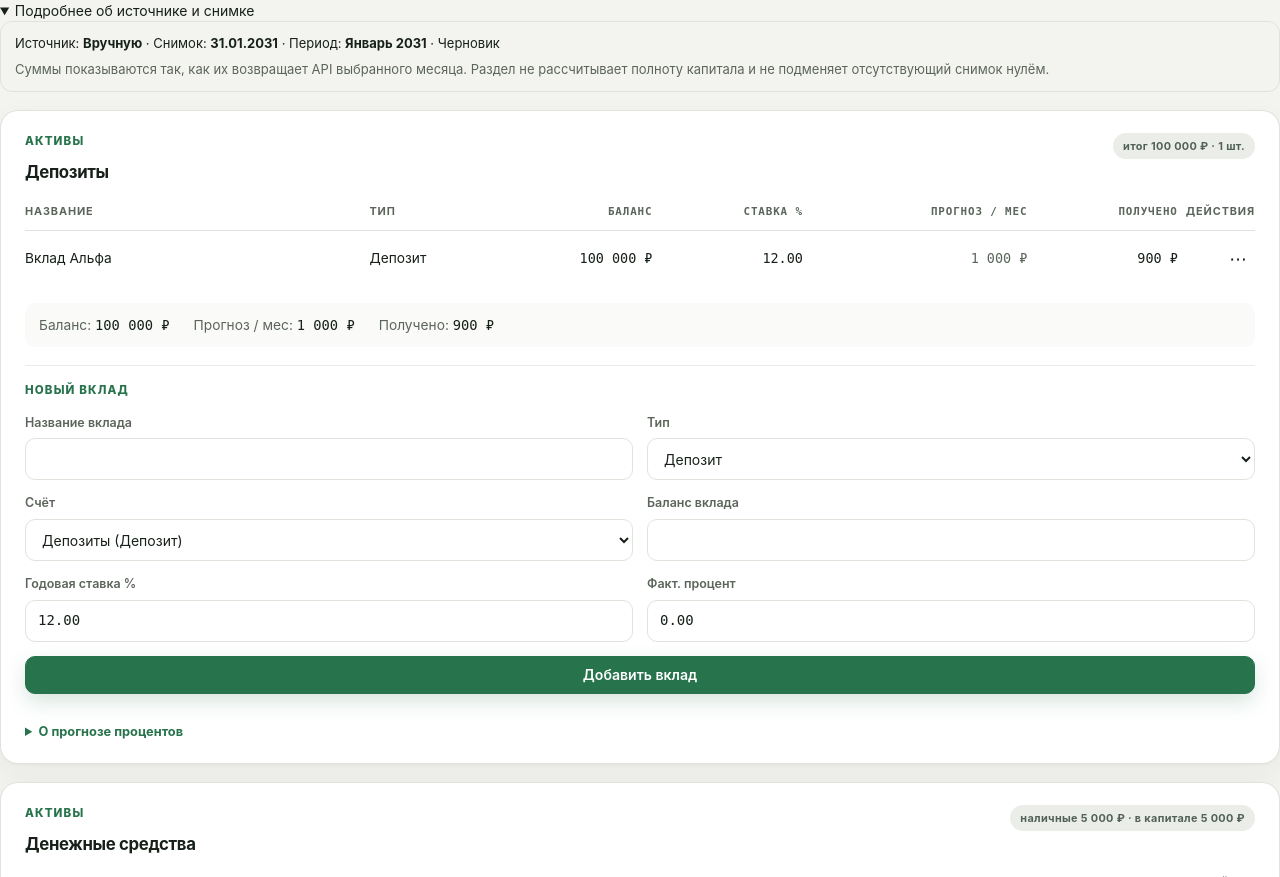
Scenario: UiV2MonthAssetsSection › deletes a deposit only through the confirmed overflow path
The image size is (1280, 877).
Click the button named "Действия для вклада «Вклад Альфа»" at (1238, 259), box [1221,243,1255,275]
(page scrolled)
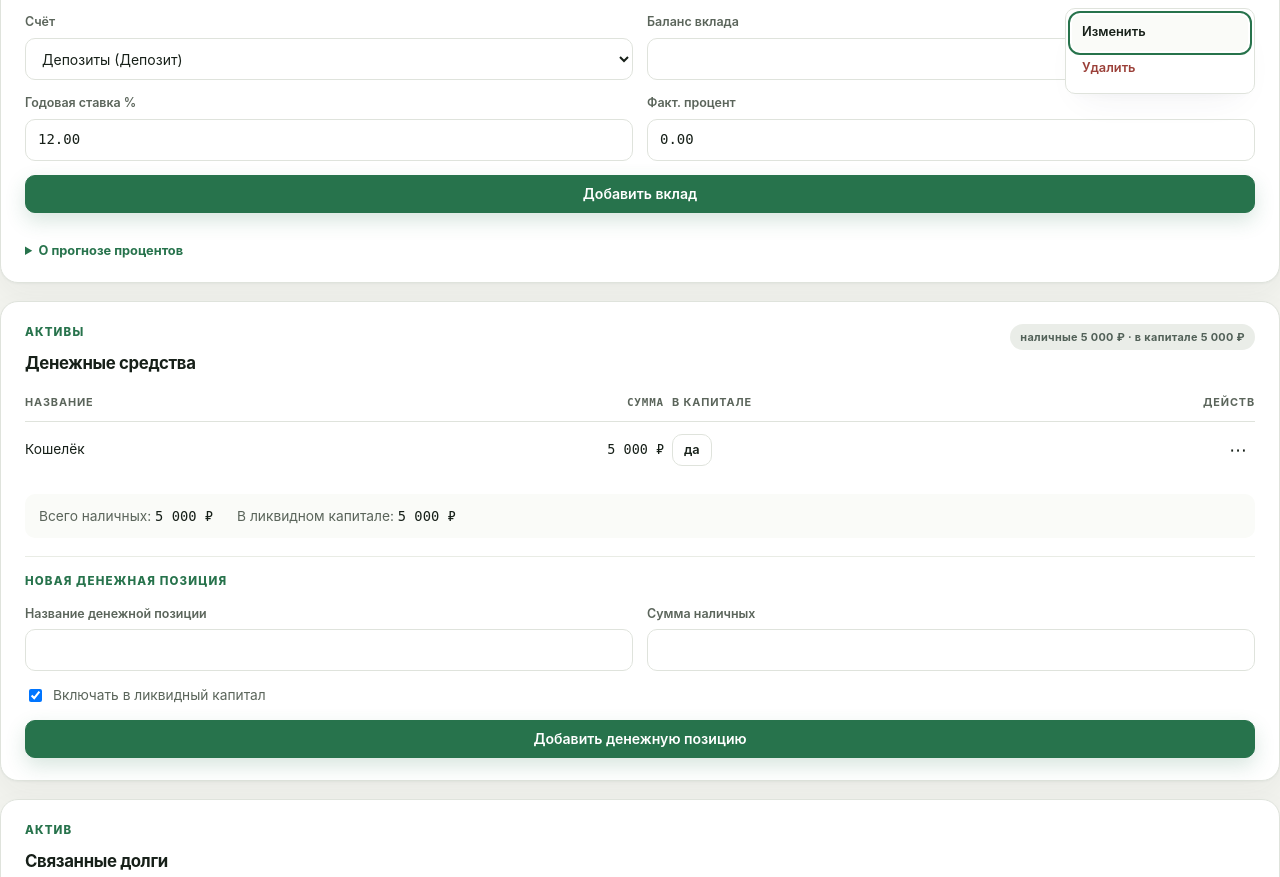
Click the menu item "Удалить" at (1160, 69), box [1072,51,1248,87]
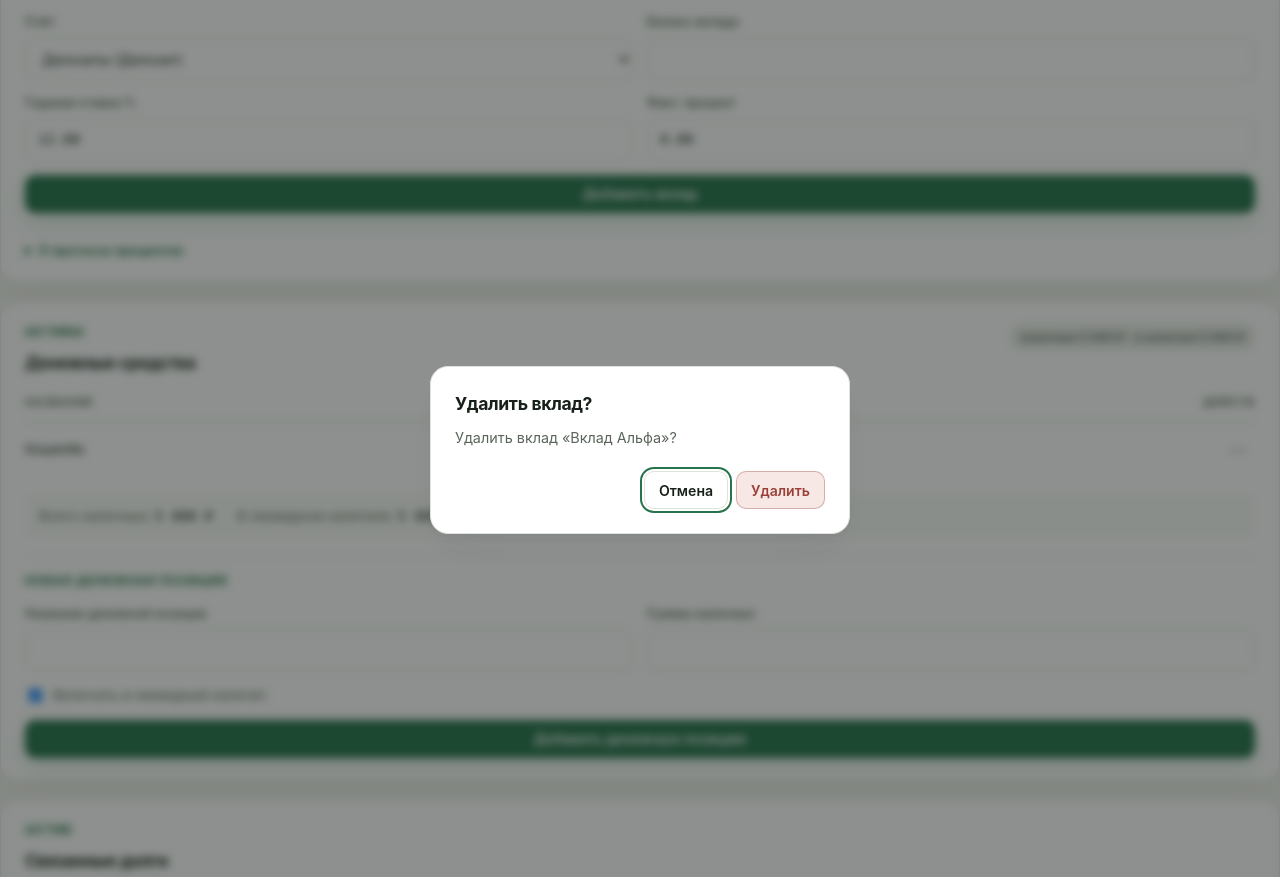
Check: the dialog "Удалить вклад?" shows "Вклад Альфа", box [455,429,677,446]
Click the button "Удалить" at (781, 490), box [736,471,825,509]
(page scrolled)
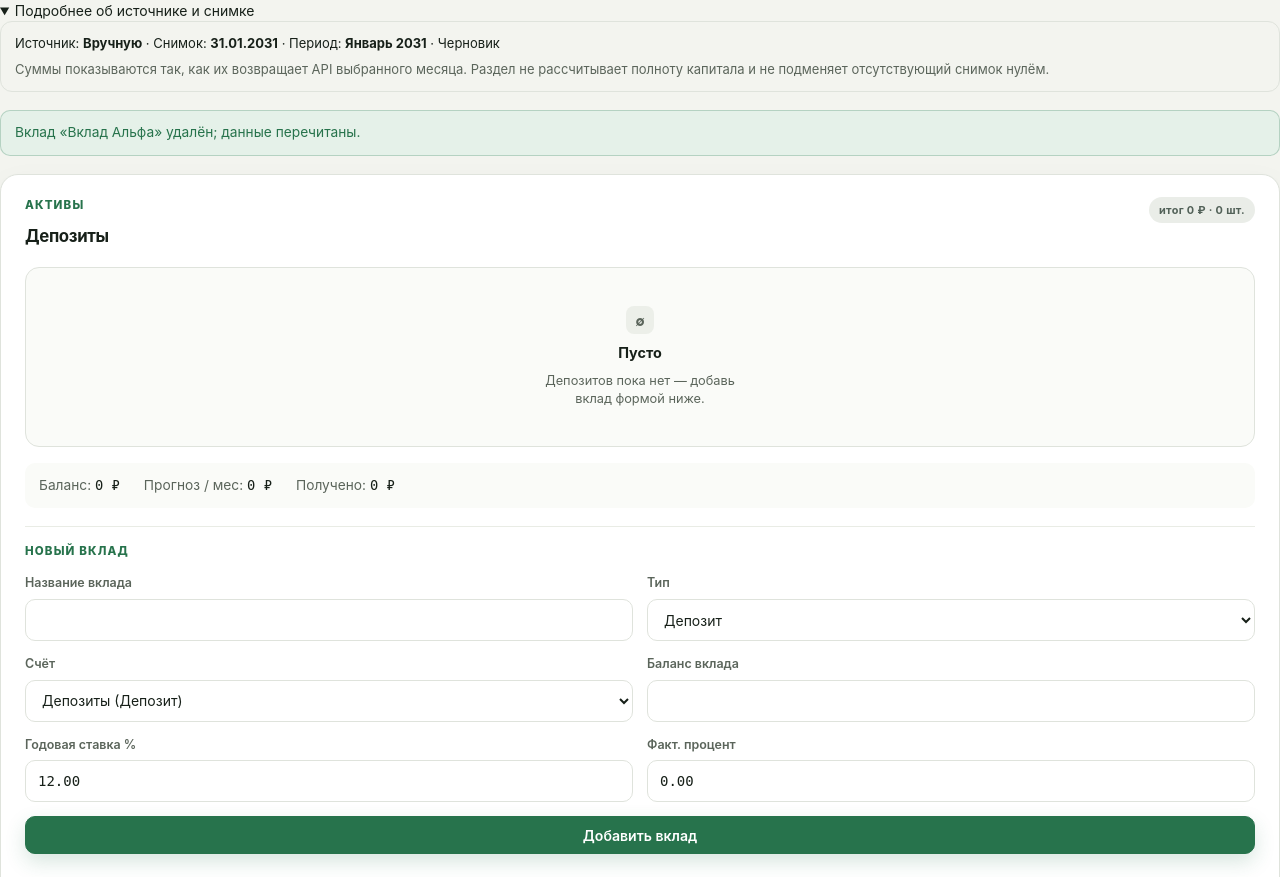
Check: the text "Вклад «Вклад Альфа» удалён; данные перечитаны." is shown, box [0,110,1279,156]
